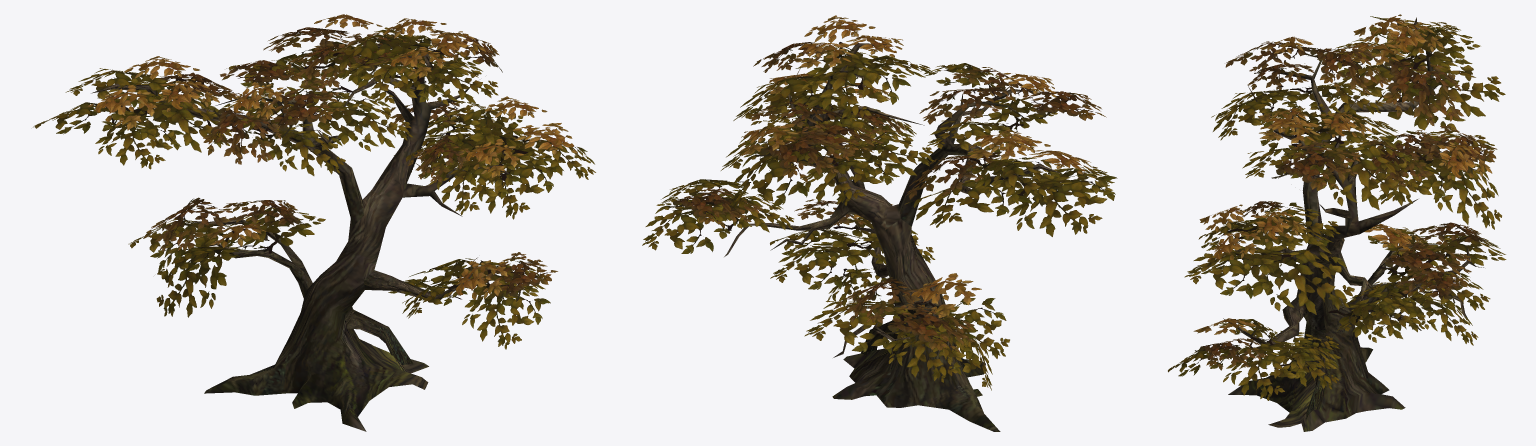
File: S_Tree_Yellow060.FBX
The picture shows the model from 3 angles, left to right: view 1: azimuth 30°, elevation 25°; view 2: azimuth 150°, elevation 25°; view 3: azimuth 270°, elevation 25°; orthographic projection. The views are drawn at different scales.
Visible parts, largest first — view 1: S_Tree_Yellow060; view 2: S_Tree_Yellow060; view 3: S_Tree_Yellow060.
Part boxes in pixels (left/top/right/bottom): S_Tree_Yellow060: left=33, top=14, right=595, bottom=431; S_Tree_Yellow060: left=642, top=15, right=1117, bottom=431; S_Tree_Yellow060: left=1168, top=14, right=1506, bottom=431.
Bounding box in the file's own units: 1335 × 899 × 884.
